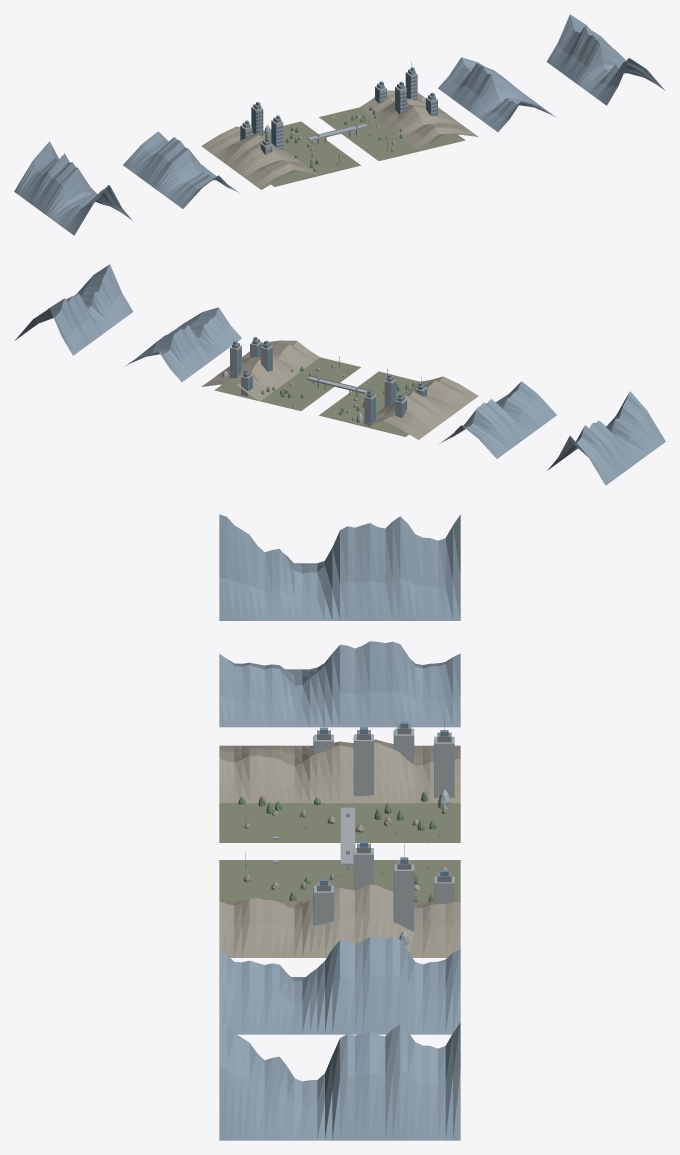
The model's file is city_approach.glb.
3 views of the same model, one above another, from view 1: azimuth 30°, elevation 25°; view 2: azimuth 150°, elevation 25°; view 3: azimuth 270°, elevation 25° (orthographic). The views are drawn at different scales.
Visible parts, largest first — view 1: RidgeHorizon, RidgeFar, RidgeNear, Terrain, Structures, Vegetation, Overpass; view 2: RidgeHorizon, RidgeFar, RidgeNear, Terrain, Structures, Overpass; view 3: RidgeHorizon, RidgeFar, RidgeNear, Terrain, Structures, Vegetation, Overpass.
Part boxes in pixels (box(x1,y1,x2,y2)): RidgeHorizon: box(14, 14, 665, 235); RidgeFar: box(123, 57, 555, 208); RidgeNear: box(201, 90, 478, 189); Terrain: box(263, 107, 465, 186); Structures: box(240, 61, 437, 155); Vegetation: box(265, 106, 402, 171); Overpass: box(307, 123, 368, 144); RidgeHorizon: box(14, 264, 665, 485); RidgeFar: box(124, 307, 556, 458); RidgeNear: box(201, 340, 478, 439); Terrain: box(214, 357, 419, 436); Structures: box(222, 336, 427, 426); Overpass: box(307, 376, 368, 397); RidgeHorizon: box(219, 514, 460, 1140); RidgeFar: box(219, 641, 460, 1034); RidgeNear: box(219, 739, 460, 957); Terrain: box(219, 803, 460, 900); Structures: box(313, 714, 454, 944); Vegetation: box(238, 791, 441, 902); Overpass: box(340, 806, 355, 870).
Bounding box in the file's own units: 680 × 51.62 × 120.
